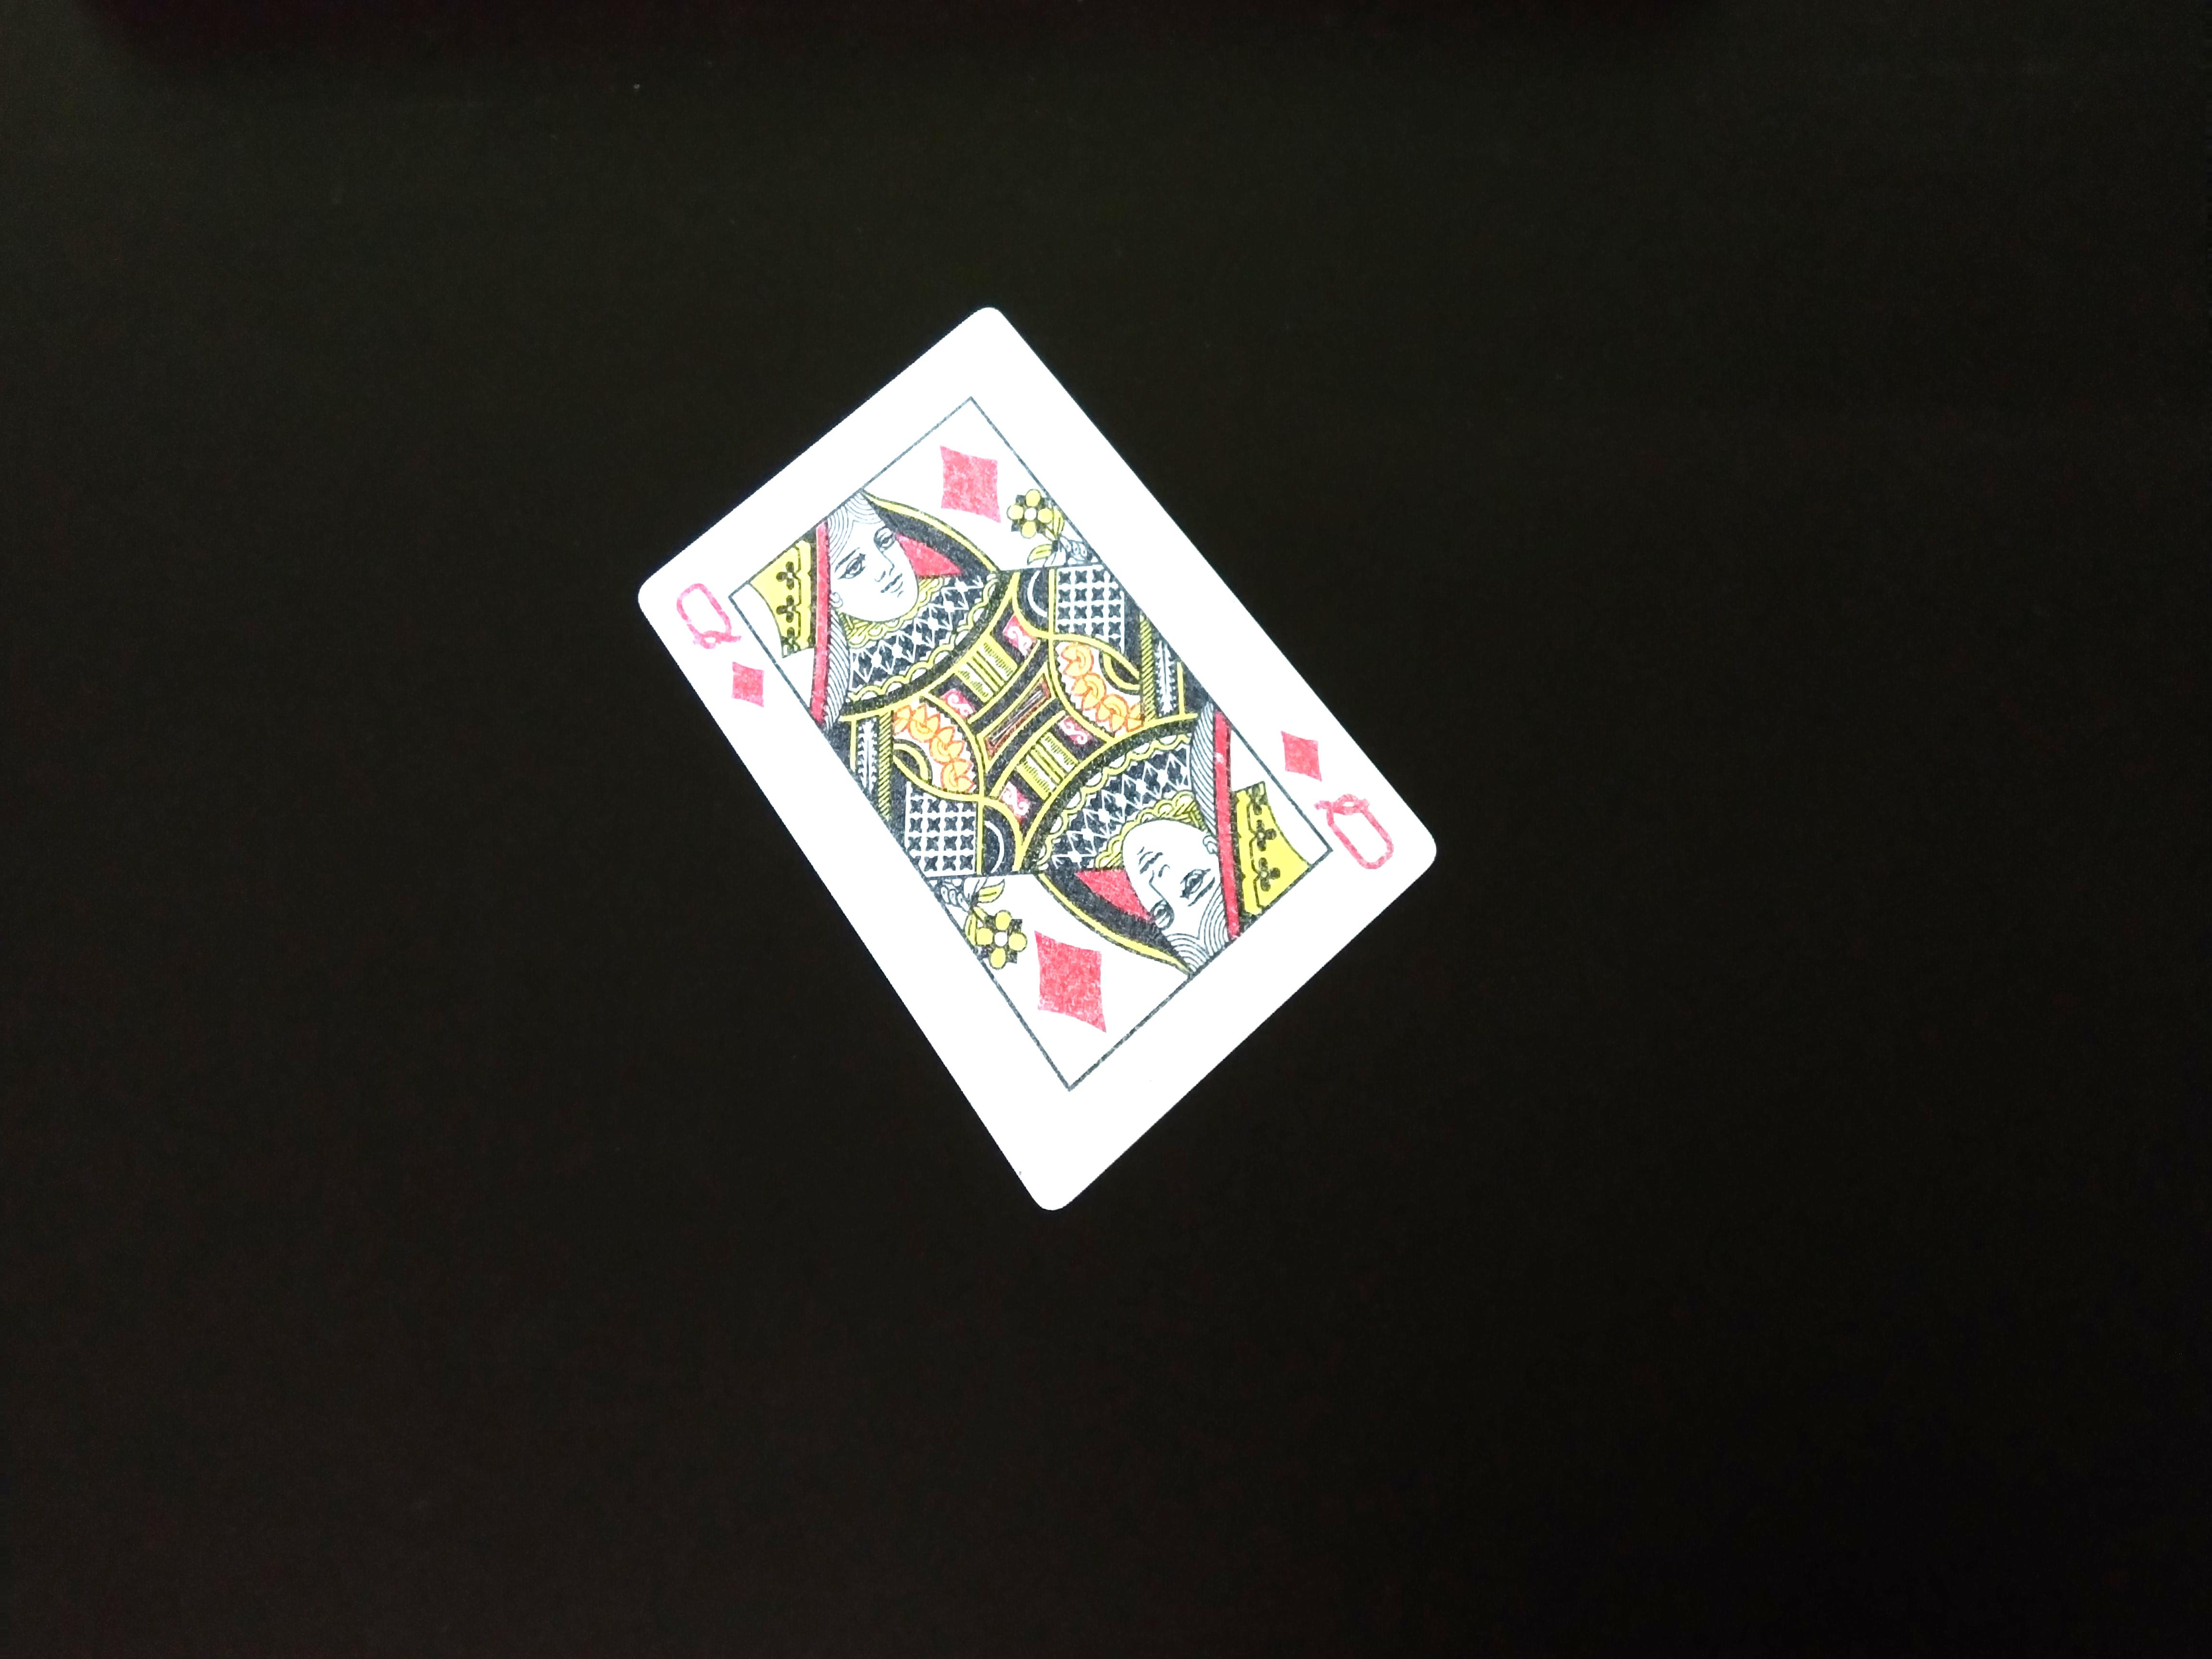QD: (1280, 727, 1397, 868)
